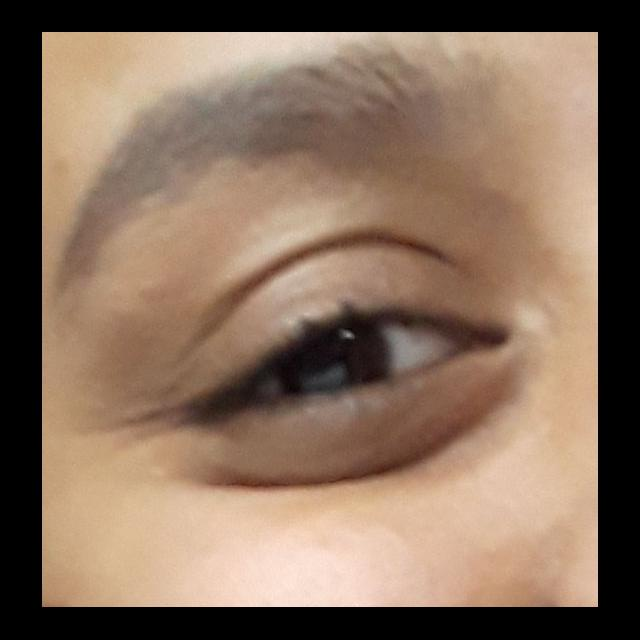eye: (230, 319, 468, 395)
iris: (270, 322, 392, 395)
